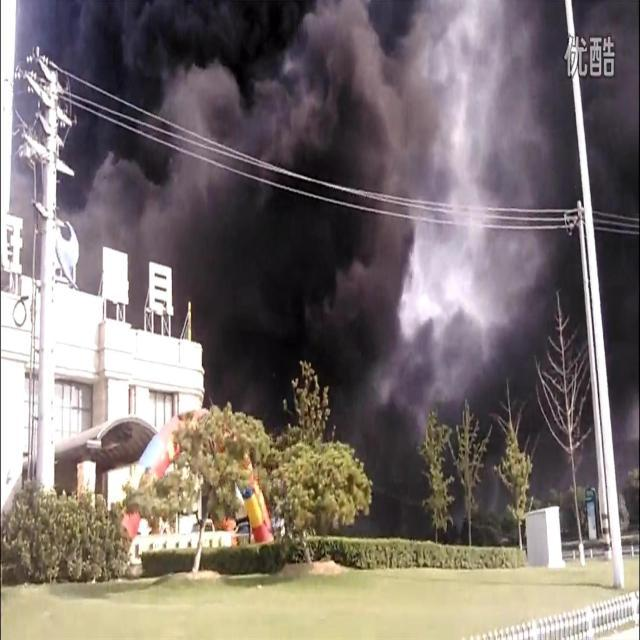Smoke: (10, 1, 640, 545)
